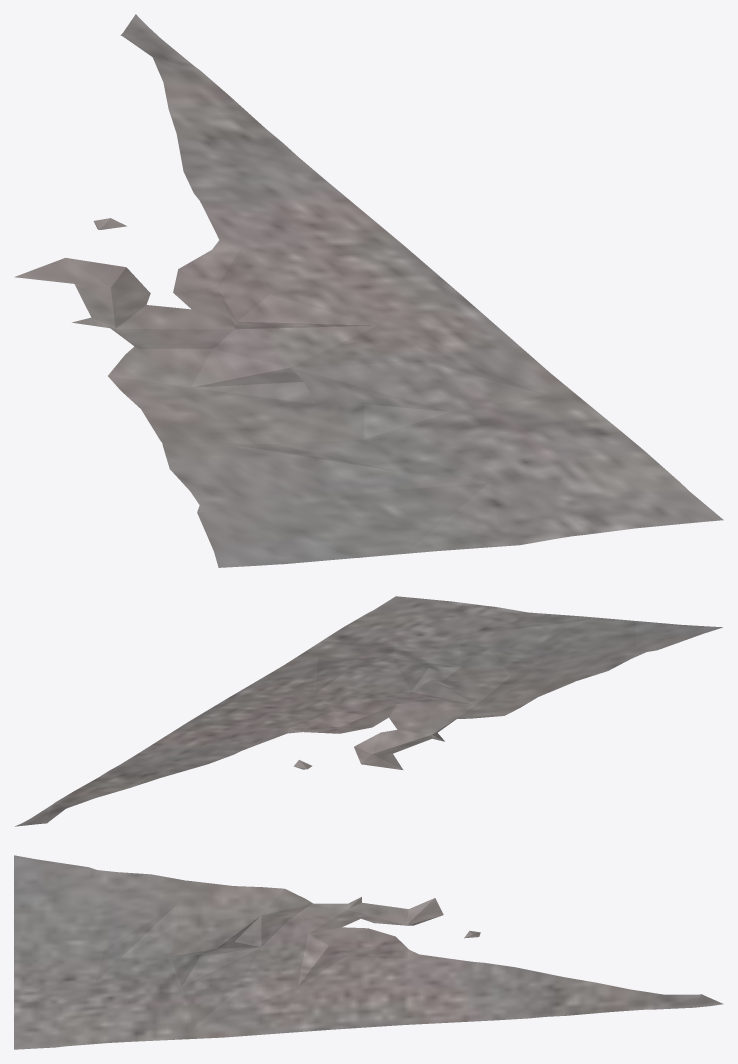
The picture shows the model from 3 angles, top to bottom: view 1: azimuth 30°, elevation 25°; view 2: azimuth 150°, elevation 25°; view 3: azimuth 270°, elevation 25°; orthographic projection. The views are drawn at different scales.
Size of the model in its own units: 0.722 by 0.1031 by 1.46.
1 material, 1 textured.
